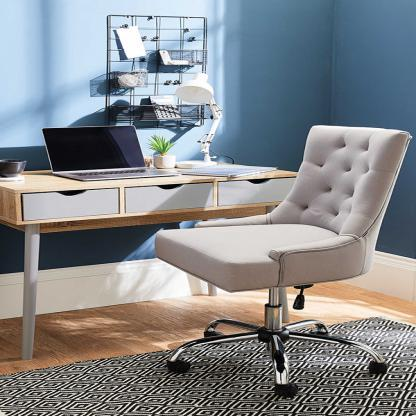chair: (150, 123, 414, 399)
light: (172, 64, 271, 181)
table: (0, 153, 297, 361)
